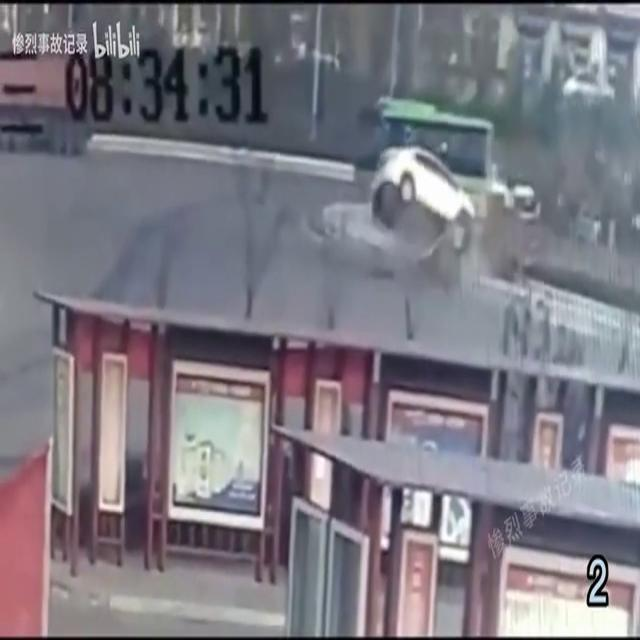single accident: (361, 146, 509, 314)
